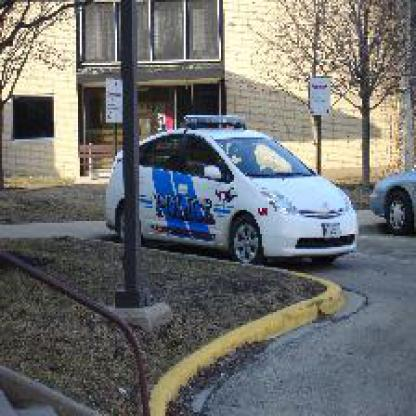emergency: (101, 111, 362, 270)
